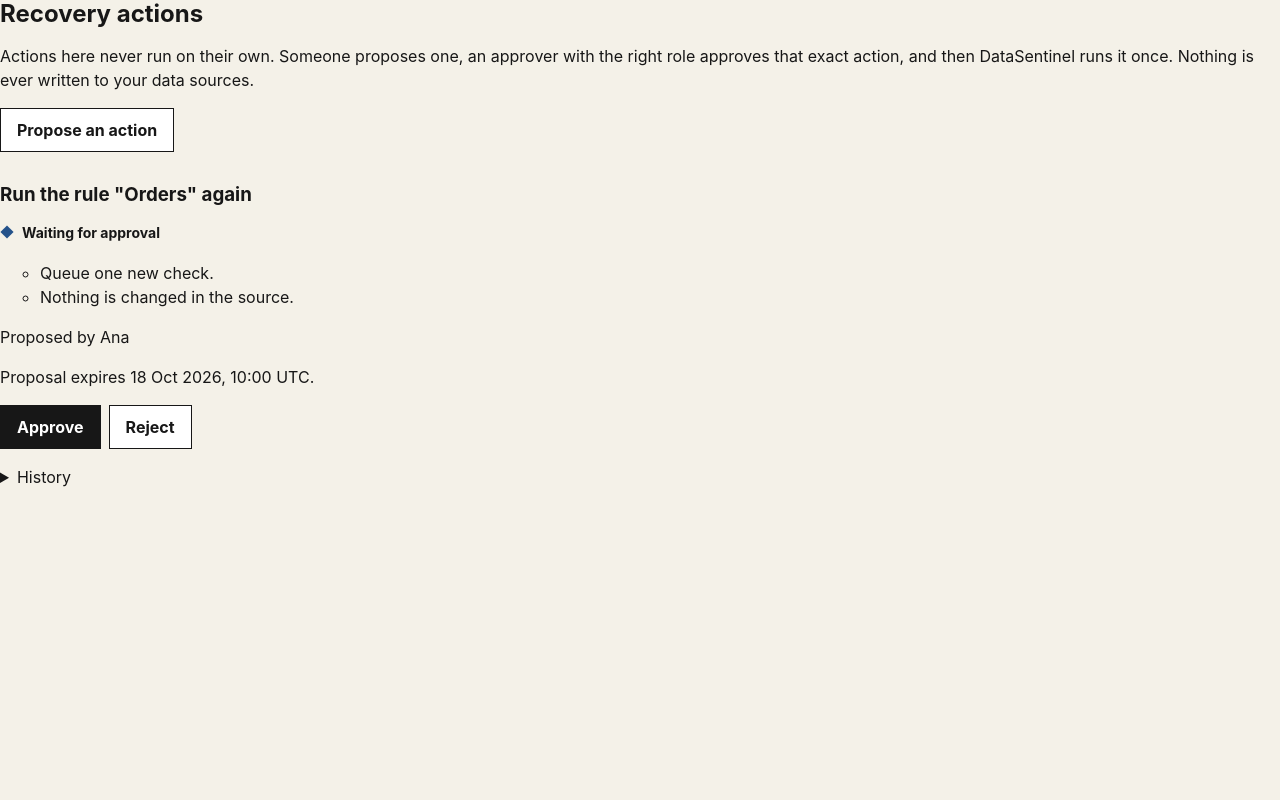
Test: Recovery actions panel › shows a self-approval conflict
Click the button with aria-label "Approve Run the rule" at (50, 427), box [0,405,101,449]
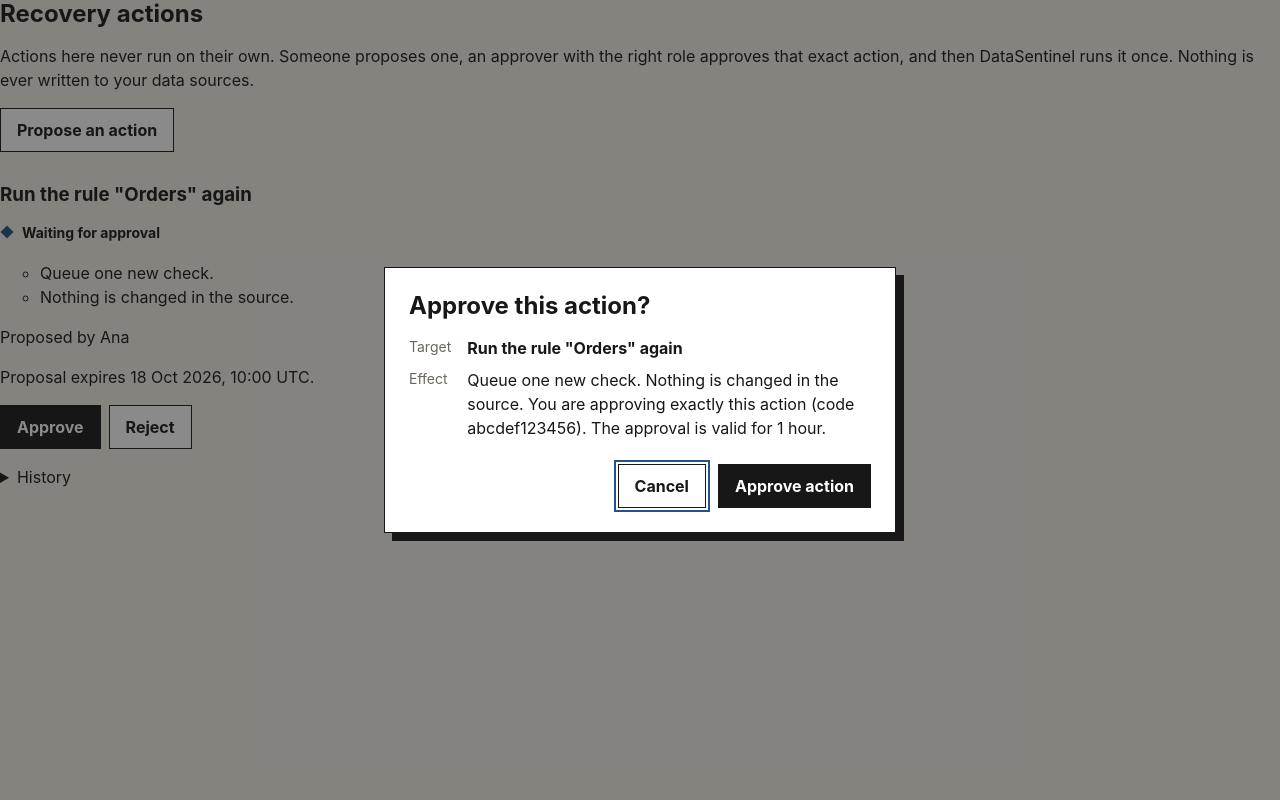
Click the button "Approve action" at (794, 486), box [718,464,871,508]
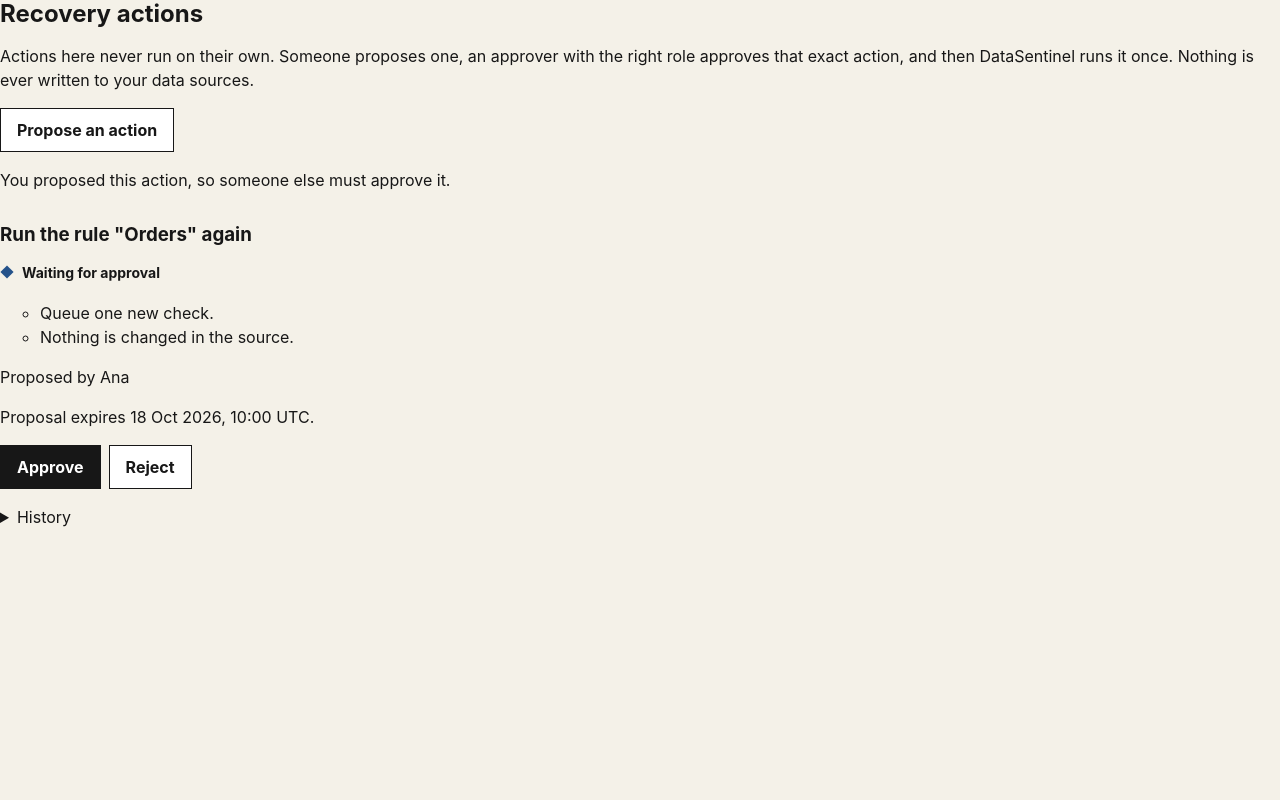
Now the message shows "someone else must approve", box [0,170,450,190]
